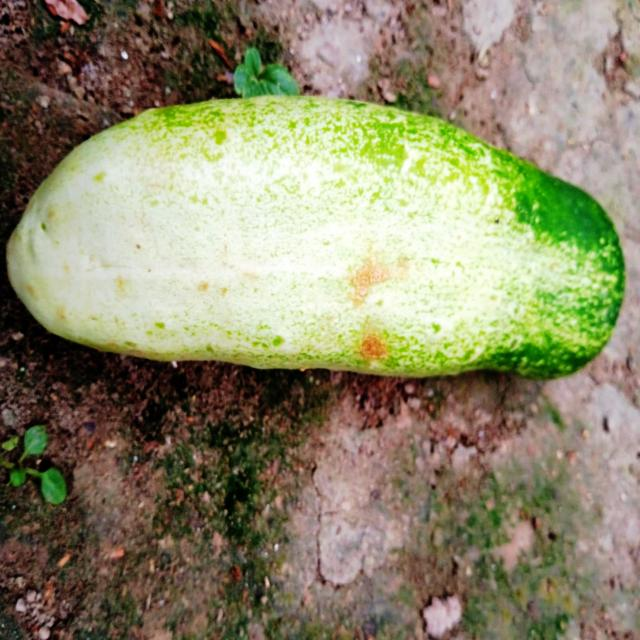Belly-Rot: (344, 246, 400, 364)
